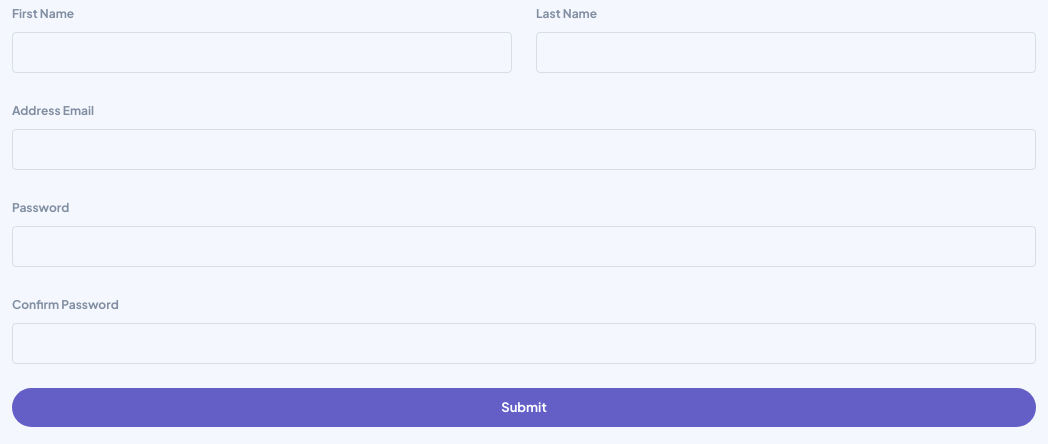
RegisterForm component › Unit › should render "Required" error message after click submit button when no value in first name input
Click the button "Submit": (524, 407) [12,388,1036,427]
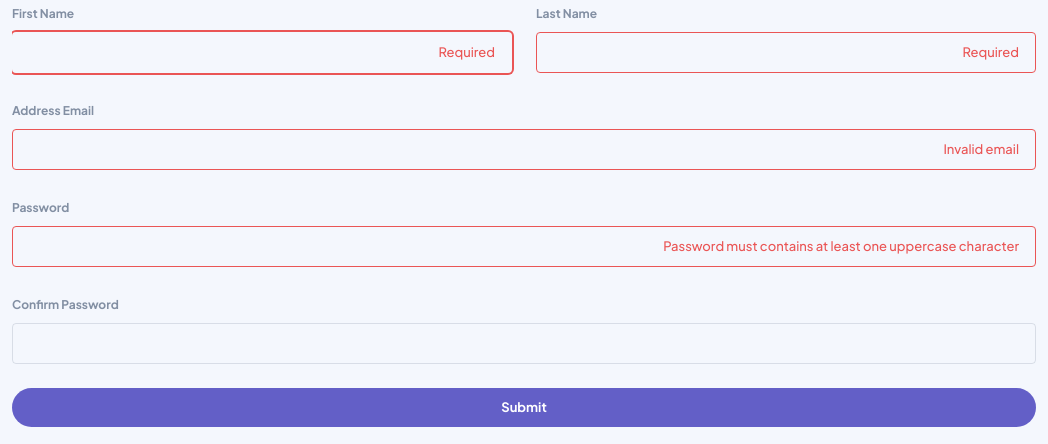
Check: the text with test id "first-name-error-message" reads "Required", box [438,44,495,60]
